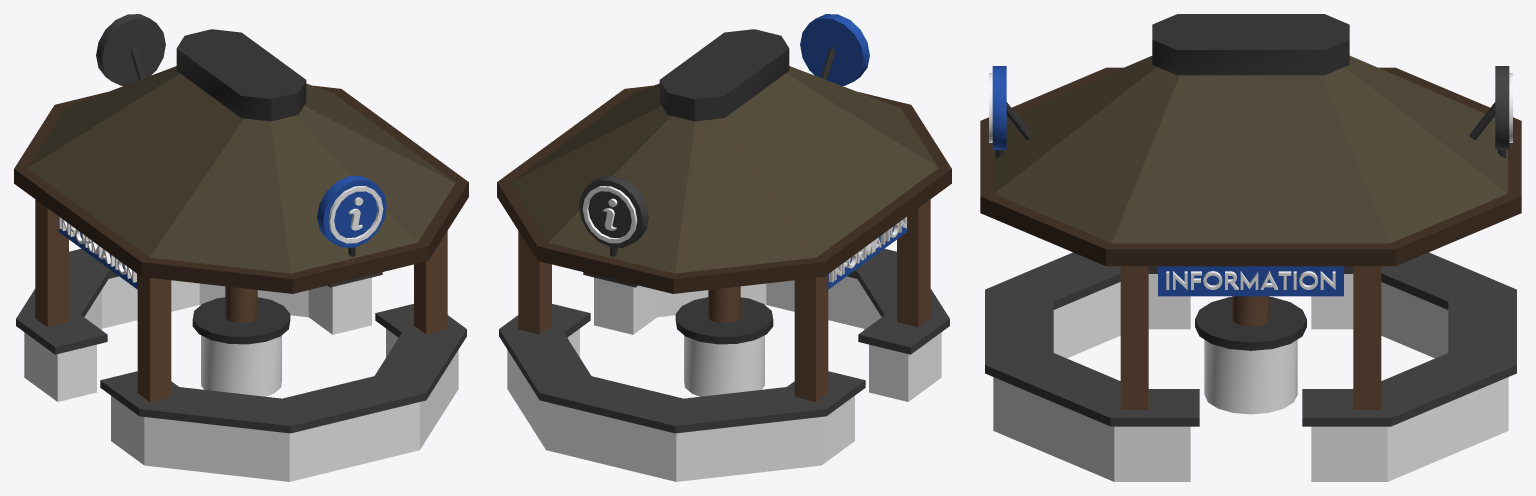
Rendered from infobooth.fbx.
3 views of the same model, side by side, from view 1: azimuth 30°, elevation 25°; view 2: azimuth 150°, elevation 25°; view 3: azimuth 270°, elevation 25° (orthographic). The views are drawn at different scales.
Parts seen in each view (by area): view 1: Connect_2, Connect_2_2, Connect_1_2, Connect_1, Connect_4, Connect_5, Connect_3, Cube_2, Cylinder_2, Cube_3, Cylinder_5, Cylinder (+6 smaller); view 2: Connect_2, Connect_4, Connect_3, Connect_1, Connect_2_2, Connect_5, Connect_1_2, Cube_3, Cylinder_2, Cube_2, Cylinder_4, Cylinder (+6 smaller); view 3: Connect_2, Connect_1, Connect_4, Connect_2_2, Connect_3, Connect_1_2, Connect_5, Cylinder_2, Connect_3_2, Cube_1, Cube, Cylinder (+4 smaller).
Part boxes in pixels (x1,y1,x2,y2): Connect_2: [27, 66, 455, 273]; Connect_2_2: [111, 328, 458, 481]; Connect_1_2: [100, 304, 466, 433]; Connect_1: [14, 85, 468, 293]; Connect_4: [24, 276, 371, 401]; Connect_5: [176, 29, 306, 121]; Connect_3: [16, 248, 382, 354]; Cube_2: [137, 274, 171, 401]; Cylinder_2: [201, 335, 281, 396]; Cube_3: [35, 199, 68, 326]; Cylinder_5: [96, 14, 165, 85]; Cylinder: [192, 297, 290, 344]; Connect_2: [510, 66, 938, 273]; Connect_4: [507, 328, 854, 481]; Connect_3: [499, 304, 865, 433]; Connect_1: [497, 85, 951, 293]; Connect_2_2: [594, 276, 941, 401]; Connect_5: [659, 29, 789, 121]; Connect_1_2: [583, 248, 949, 354]; Cube_3: [794, 274, 828, 401]; Cylinder_2: [684, 335, 764, 396]; Cube_2: [897, 199, 930, 326]; Cylinder_4: [800, 14, 869, 85]; Cylinder: [675, 297, 773, 344]; Connect_2: [994, 56, 1507, 243]; Connect_1: [980, 67, 1521, 266]; Connect_4: [1311, 274, 1508, 481]; Connect_2_2: [993, 274, 1190, 481]; Connect_3: [1302, 252, 1516, 426]; Connect_1_2: [985, 252, 1199, 426]; Connect_5: [1152, 14, 1349, 75]; Cylinder_2: [1204, 339, 1297, 414]; Connect_3_2: [1158, 266, 1343, 296]; Cube_1: [1353, 266, 1381, 409]; Cube: [1120, 266, 1148, 409]; Cylinder: [1195, 297, 1306, 350].
Size of the model in its own units: 462 by 430 by 582.
